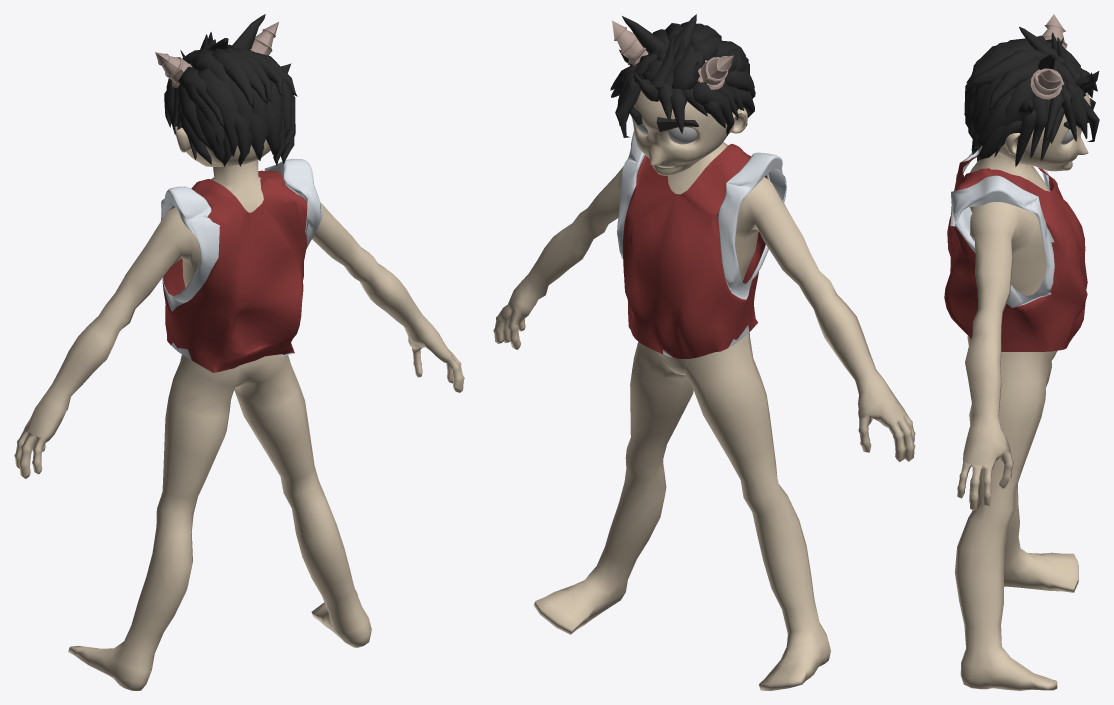
File: chemise.fbx
3 renders of one model, left to right at view 1: azimuth 30°, elevation 25°; view 2: azimuth 150°, elevation 25°; view 3: azimuth 270°, elevation 25°, orthographic. The views are drawn at different scales.
Visible parts, largest first — view 1: CharacterFullAlienConspiracyStyle2:Alien02, polySurface81; view 2: CharacterFullAlienConspiracyStyle2:Alien02, polySurface81; view 3: CharacterFullAlienConspiracyStyle2:Alien02, polySurface81.
Part boxes in pixels (box(x1,y1,x2,y2)): CharacterFullAlienConspiracyStyle2:Alien02: box(14, 14, 464, 690); polySurface81: box(160, 159, 322, 372); CharacterFullAlienConspiracyStyle2:Alien02: box(493, 14, 915, 690); polySurface81: box(617, 131, 786, 358); CharacterFullAlienConspiracyStyle2:Alien02: box(954, 14, 1099, 690); polySurface81: box(944, 146, 1087, 351).
Bounding box in the file's own units: 116 × 162 × 37.3.
